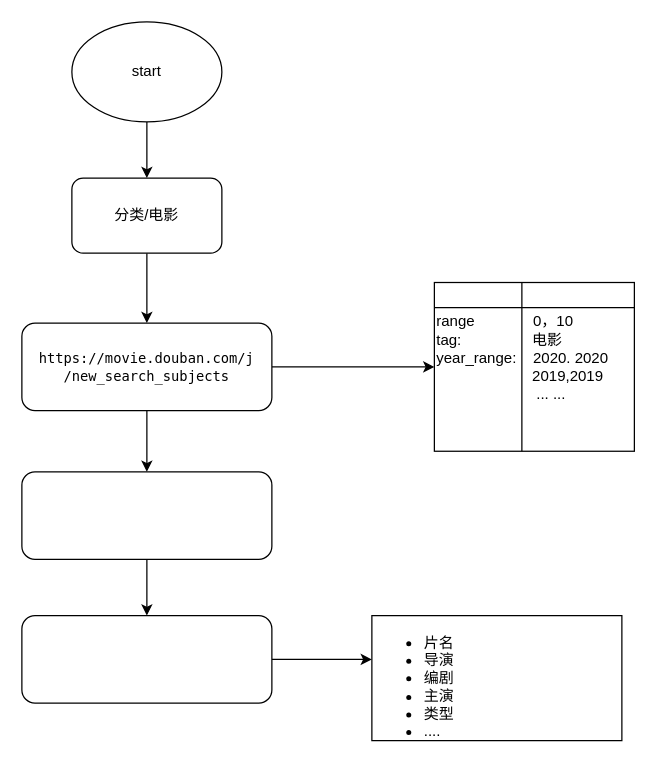
Some shapes in this 656 by 763 pixel diagram are drawn without their labels. Here are the shapes that lost their labels. From the top down, the centre of each, then its label:
At (146,515): "获取详情的url".
At (146,658): "爬取详情的数据".
